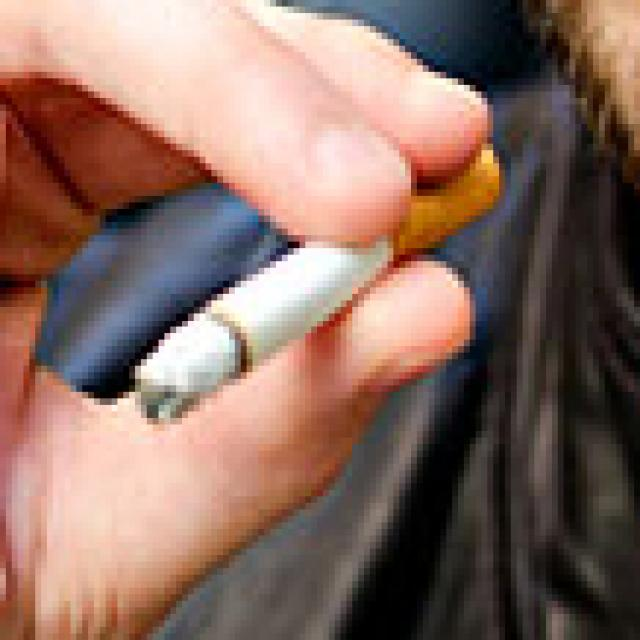cigarette: (108, 157, 509, 420)
